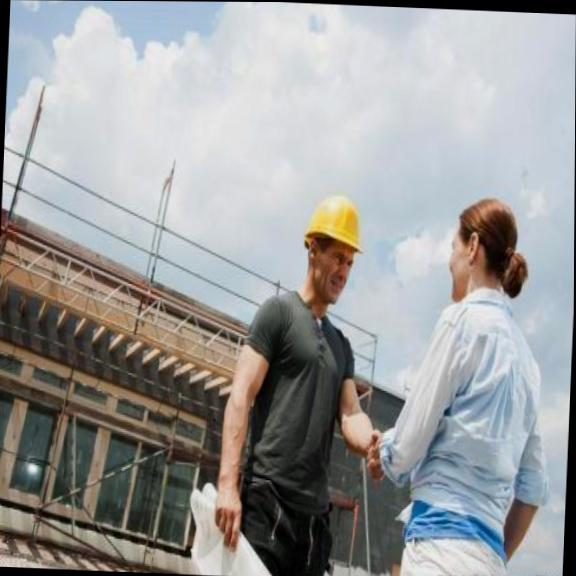no_safety_vest: (386, 293, 541, 576), (224, 295, 359, 576)
